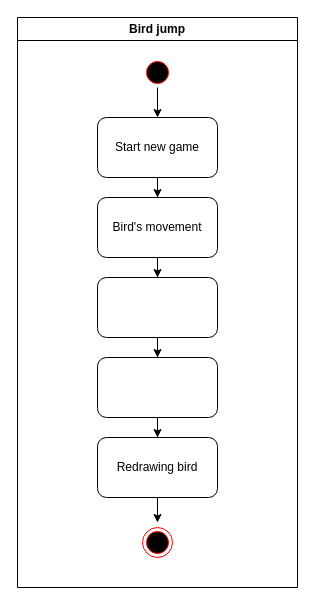
The diagram is 315 pixels wide and 605 high, and some of its shapes have lost their labels. The shapes that lost their labels are listed below. From the top down, each one's box as (x1, y1, x2, y2) in pixels, then its label:
(96, 276, 218, 338): Tap
(96, 356, 218, 418): Current coordinates and speed are replaced by new ones
